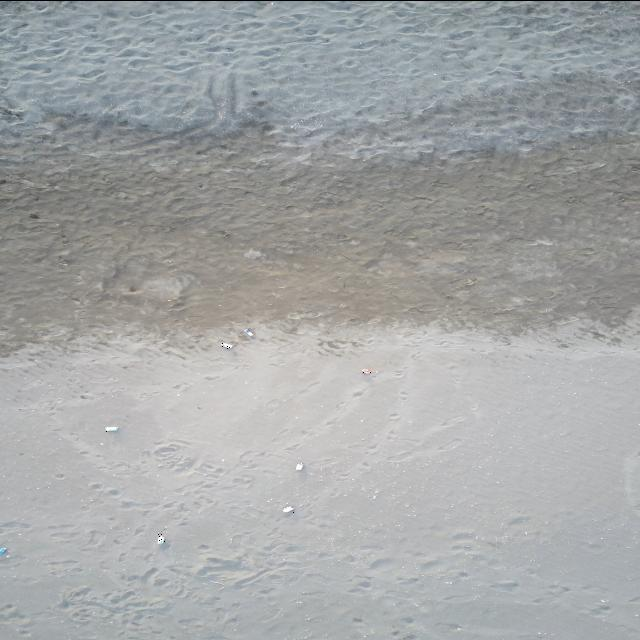Garbage: (241, 327, 252, 336), (156, 532, 163, 544), (361, 367, 375, 373), (220, 340, 232, 347), (104, 426, 118, 431), (282, 506, 293, 512), (0, 547, 7, 555), (296, 463, 303, 470)
